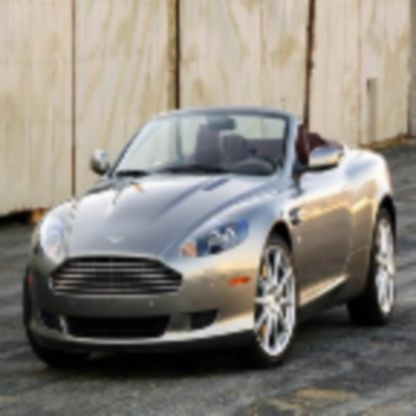Vehicle: (21, 106, 398, 366)
